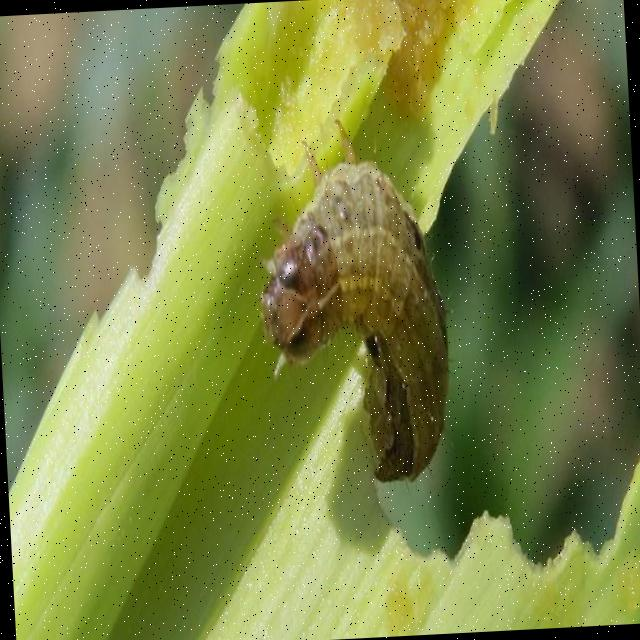worm: (249, 115, 459, 495)
